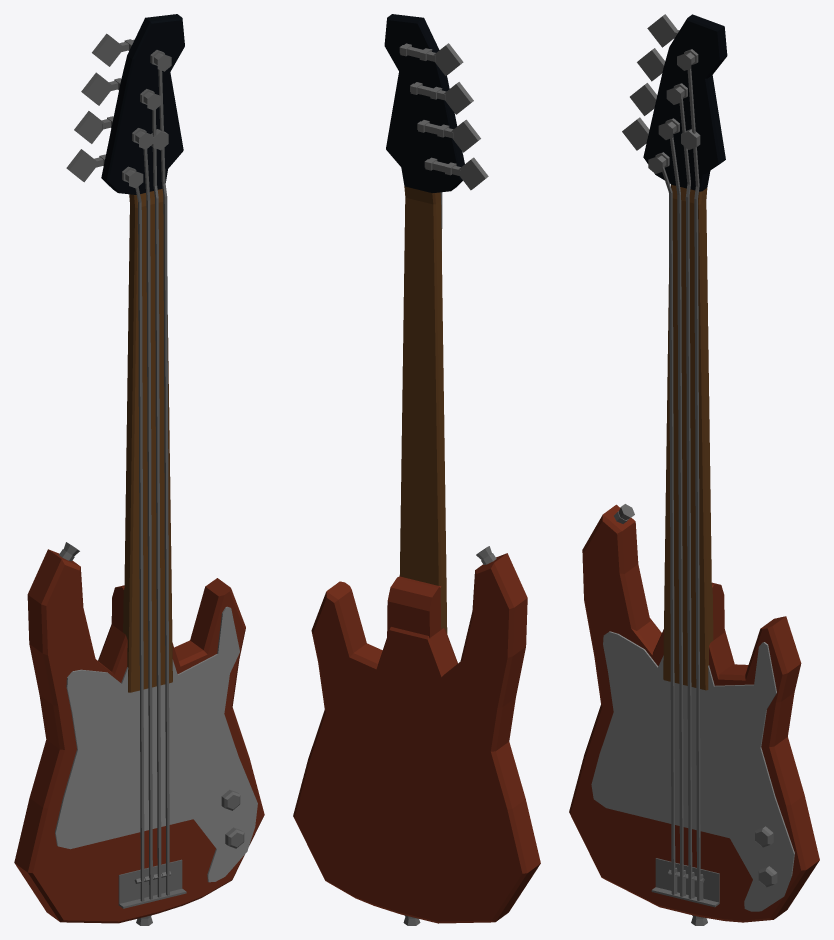
The model's file is bas.glb.
3 renders of one model, left to right at view 1: azimuth 30°, elevation 25°; view 2: azimuth 150°, elevation 25°; view 3: azimuth 330°, elevation 25°, orthographic.
Parts seen in each view (by area): view 1: Bass1; view 2: Bass1; view 3: Bass1.
Boxes of the visible parts, x1,y1,x2,y2 form: Bass1: [14, 14, 264, 925]; Bass1: [293, 14, 540, 925]; Bass1: [569, 14, 819, 925].
Size of the model in its own units: 0.4218 by 1.55 by 0.0812.
